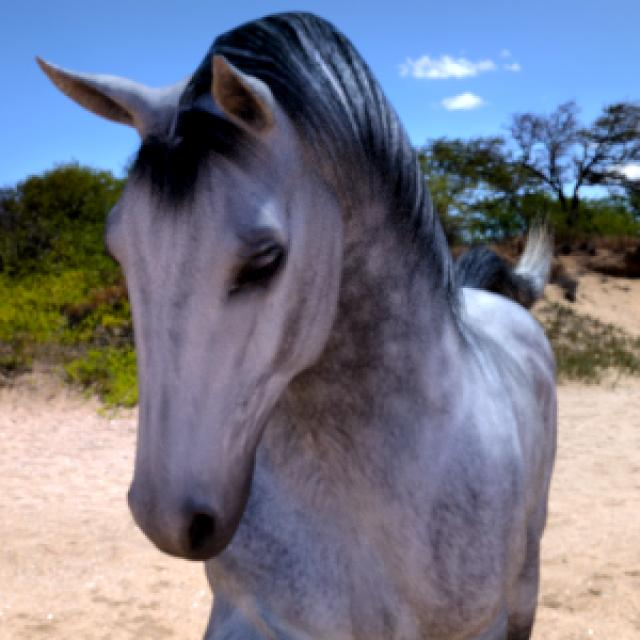horse: (39, 14, 555, 639)
